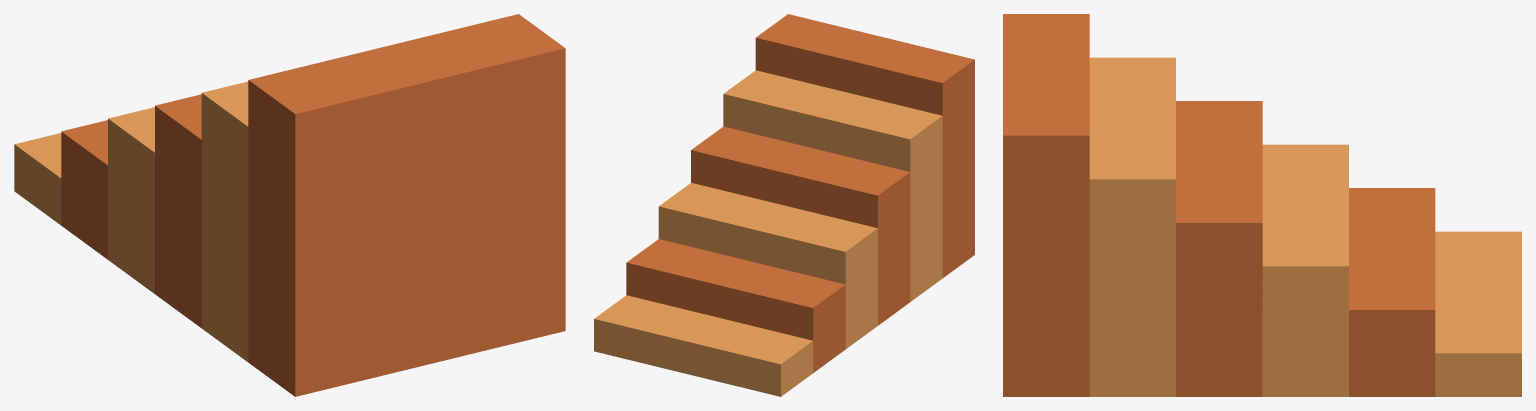
File: CA_Escalera_Piedra.obj
The picture shows the model from 3 angles, left to right: view 1: azimuth 30°, elevation 25°; view 2: azimuth 150°, elevation 25°; view 3: azimuth 270°, elevation 25°; orthographic projection. The views are drawn at different scales.
Parts seen in each view (by area): view 1: CA_Escalera_Piedra; view 2: CA_Escalera_Piedra; view 3: CA_Escalera_Piedra.
Boxes of the visible parts, x1,y1,x2,y2 form: CA_Escalera_Piedra: [14, 14, 565, 396]; CA_Escalera_Piedra: [594, 14, 974, 396]; CA_Escalera_Piedra: [1003, 14, 1521, 396].
Bounding box in the file's own units: 3 × 3 × 5.4.
